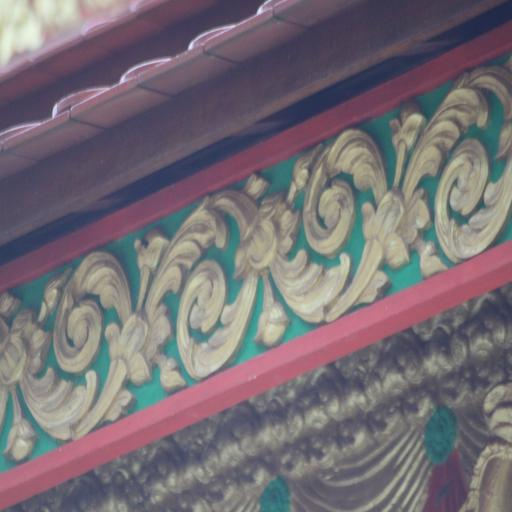la: (262, 69, 512, 325), (51, 187, 262, 439), (0, 289, 82, 458)
